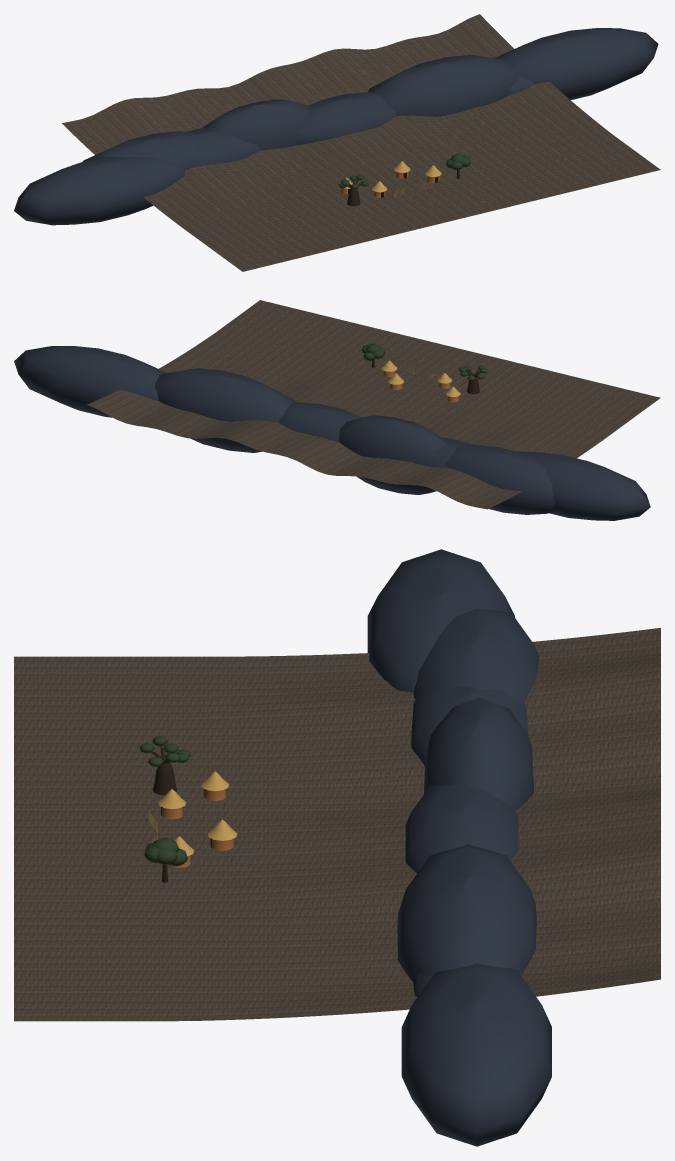
The model's file is nuit.glb.
3 renders of one model, top to bottom at view 1: azimuth 30°, elevation 25°; view 2: azimuth 150°, elevation 25°; view 3: azimuth 270°, elevation 25°, orthographic. The views are drawn at different scales.
Parts seen in each view (by area): view 1: sol, decor; view 2: sol, decor; view 3: sol, decor.
Boxes of the visible parts, x1,y1,x2,y2 form: sol: (62, 14, 660, 271); decor: (14, 28, 658, 225); sol: (87, 300, 660, 509); decor: (14, 343, 650, 520); sol: (14, 627, 660, 1021); decor: (100, 549, 551, 1146).
Bounding box in the file's own units: 188 × 19.8 × 90.
Materials: 11 (1 with a texture image).
